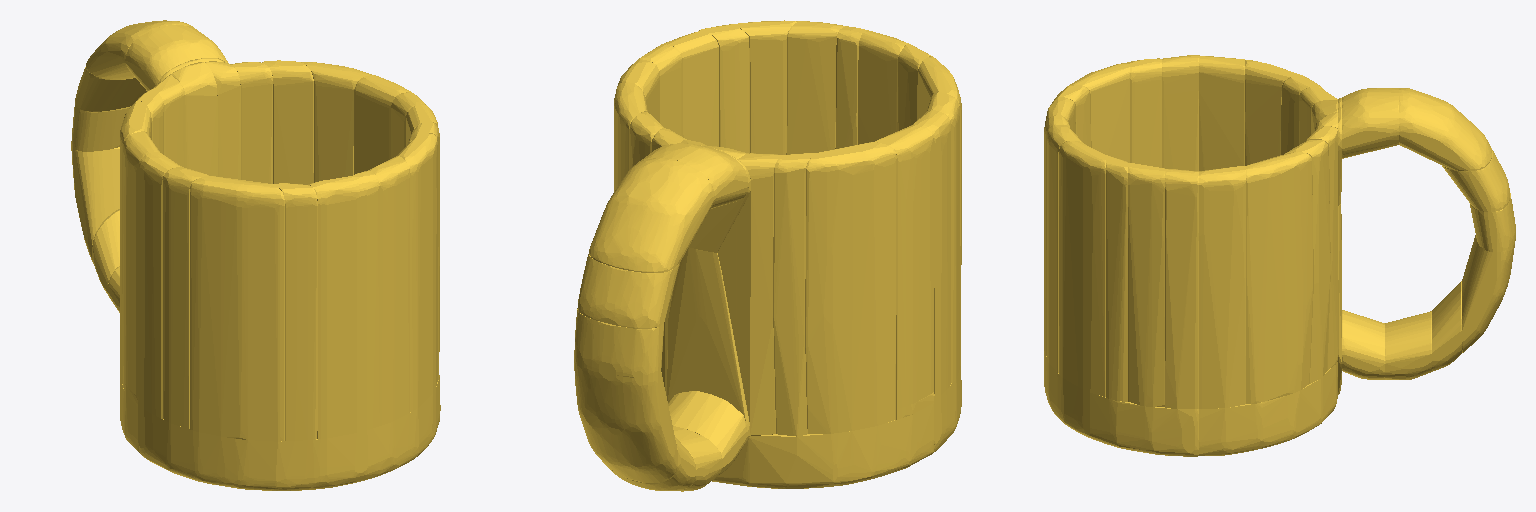
URDF robot description (35.urdf):
<?xml version="1.0" ?>
<robot name="35.urdf">
	<link name="baseLink">
		<inertial>
			<origin rpy="0 0 0" xyz="0 0 0"/>
				<mass value="0.1"/>
				<inertia ixx="6e-5" ixy="0" ixz="0" iyy="6e-5" iyz="0" izz="6e-5"/>
		</inertial>
		<visual>
			<origin rpy="0 0 0" xyz="0 0 0"/>
			<geometry>
				<mesh filename="32_decom_wt.obj" scale="0.88 0.88 1.07"/>
			</geometry>
			<material name="yellow">
				<color rgba="0.98 0.84 0.35 1"/>
			</material>
		</visual>
		<collision>
			<origin rpy="0 0 0" xyz="0 0 0"/>
			<geometry>
				<mesh filename="32_decom_wt.obj" scale="0.88 0.88 1.07"/>
			</geometry>
		</collision>
	</link>
</robot>

--- Render facts (derived) ---
The picture shows the robot from 3 angles, left to right: view 1: azimuth 30°, elevation 25°; view 2: azimuth 150°, elevation 25°; view 3: azimuth 270°, elevation 25°; orthographic projection.
Robot: 35.urdf — 1 links, 0 joints (none); root link baseLink; default pose: all joints at 0.
Visible links, largest first — view 1: baseLink; view 2: baseLink; view 3: baseLink.
Boxes of the visible links, bbox=[...] form: baseLink: bbox=[71, 20, 440, 490]; baseLink: bbox=[574, 20, 961, 491]; baseLink: bbox=[1044, 55, 1515, 456].
Size in the robot's own frame: 0.0838 by 0.1323 by 0.0931 metres.
1 mesh visuals loaded from 1 distinct referenced files (1 OBJ).